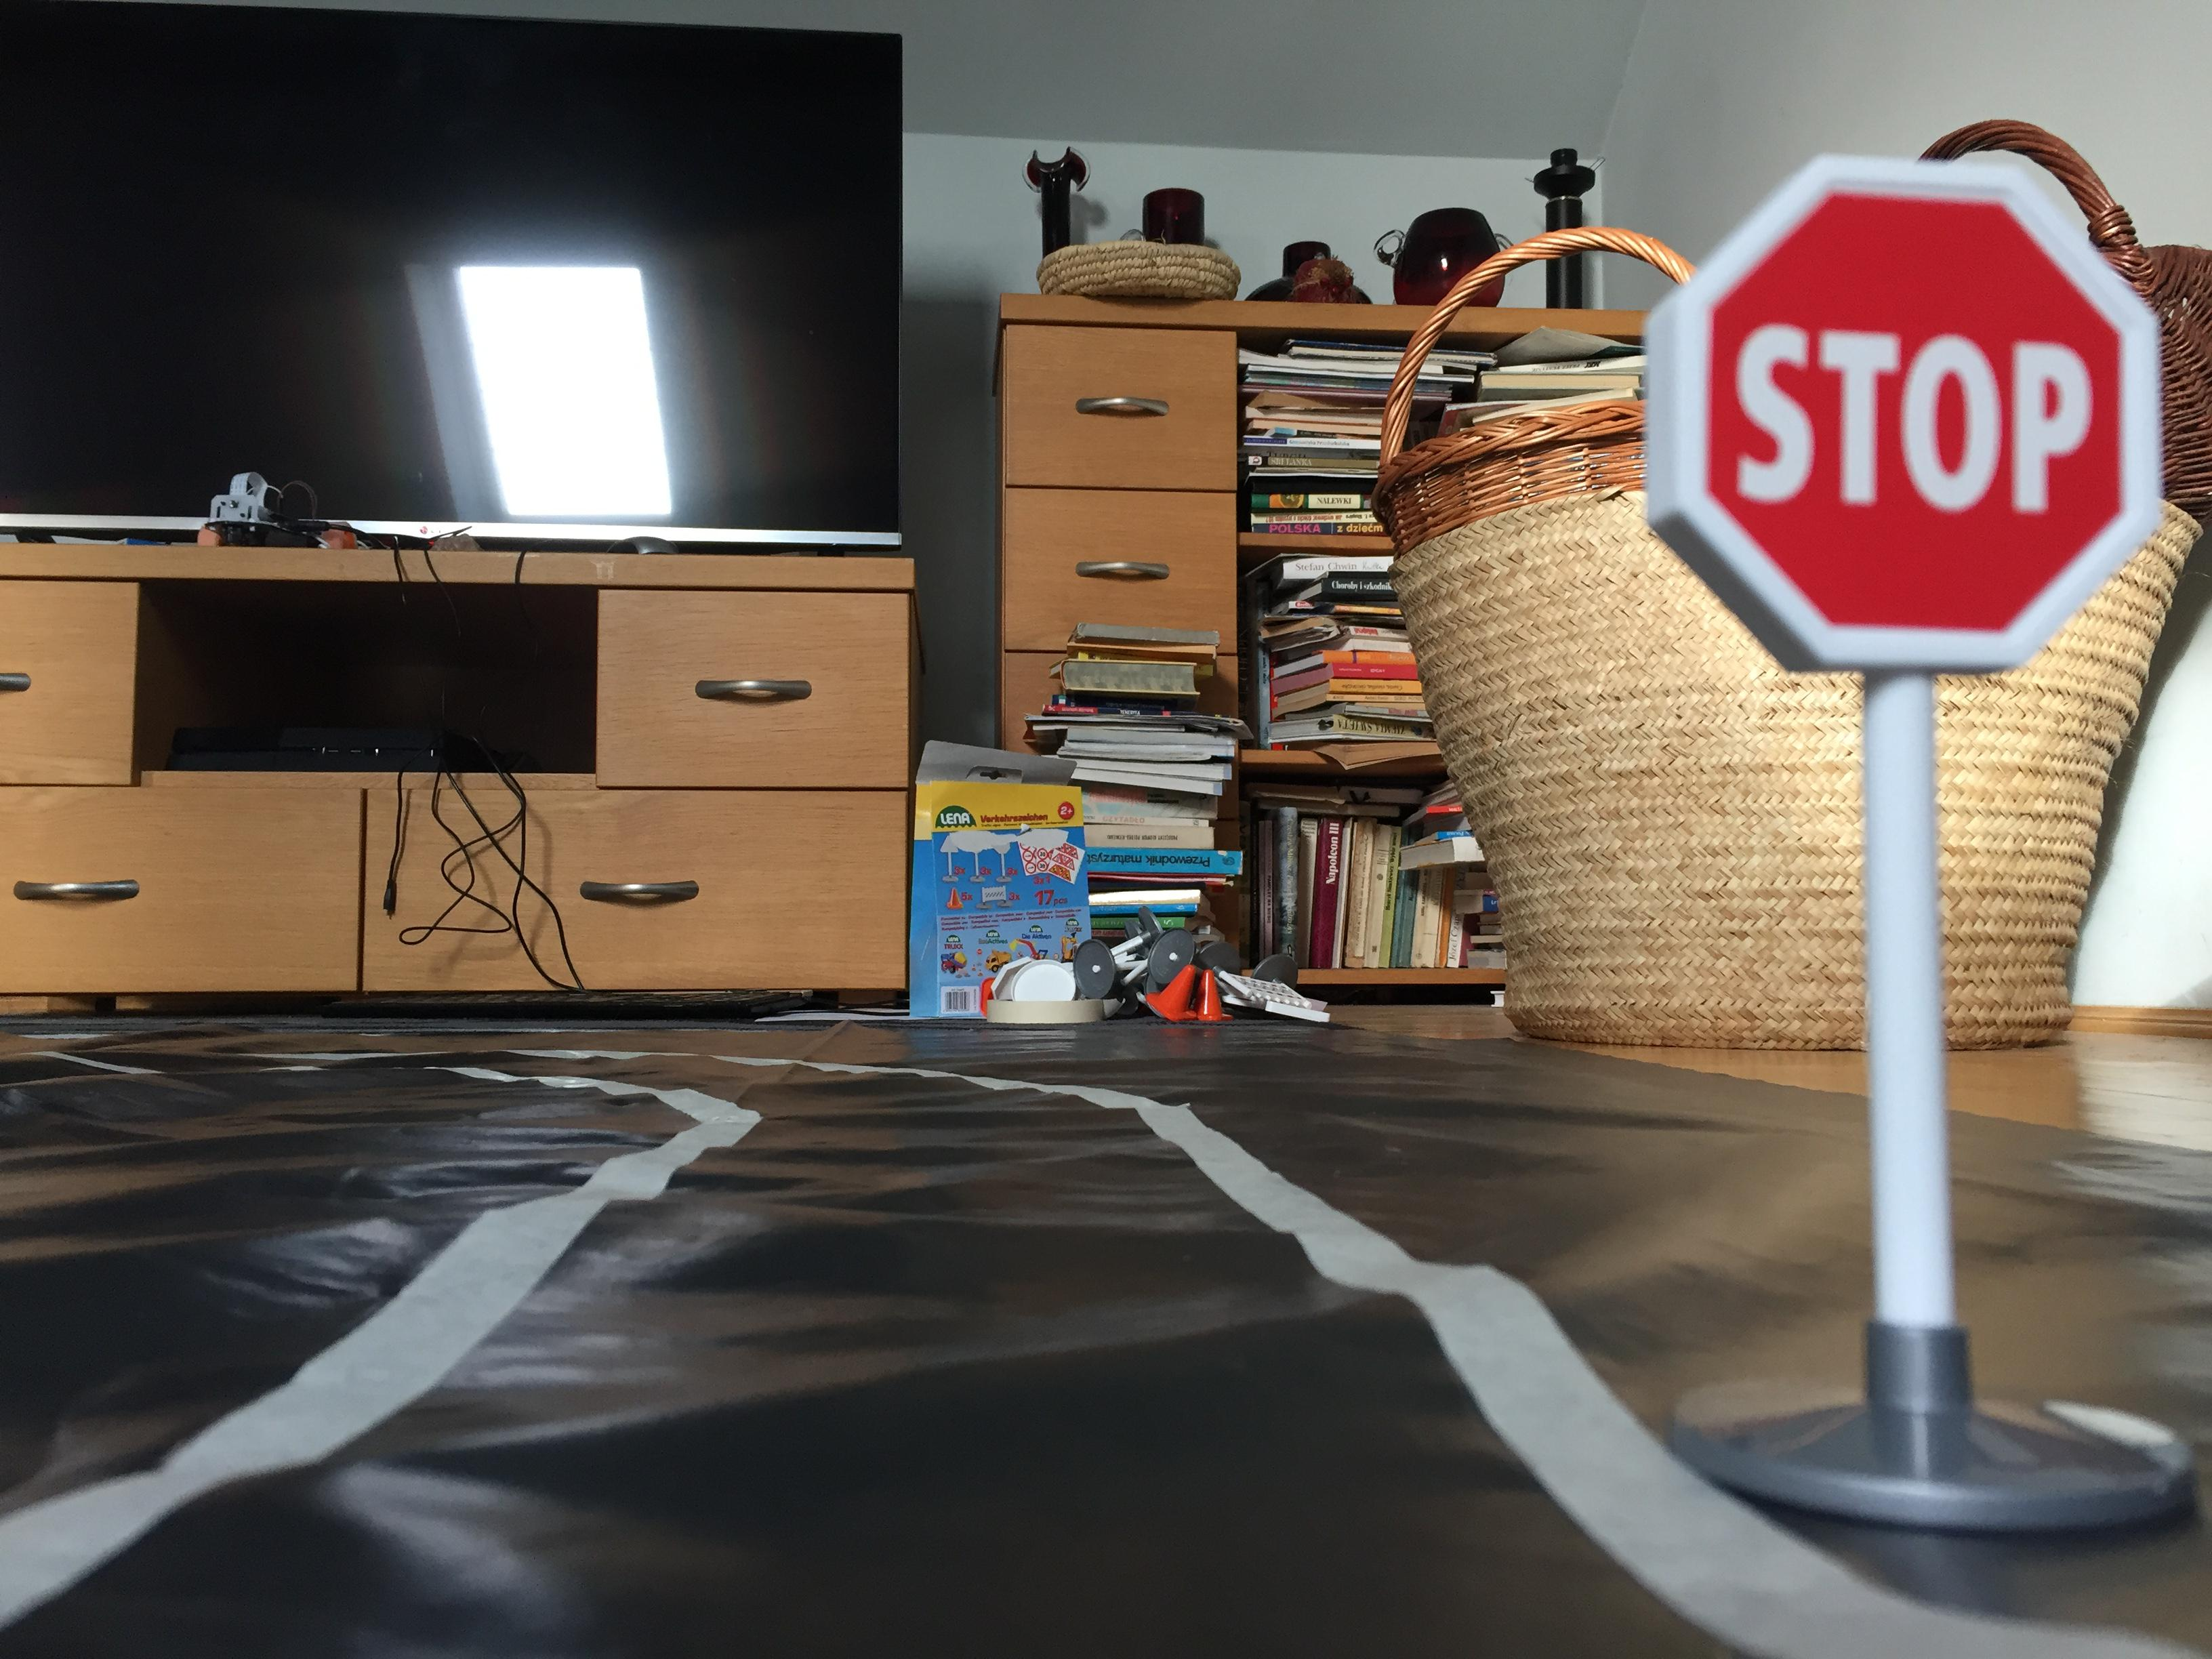stop: (1639, 141, 2168, 704)
